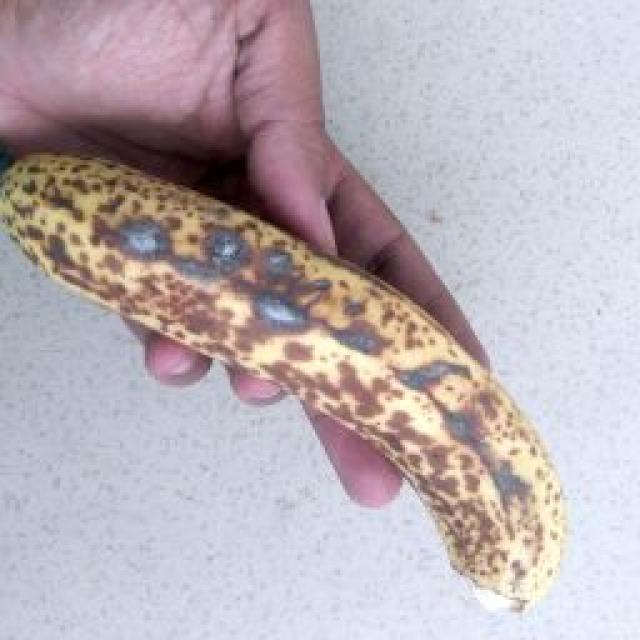banana: (54, 20, 595, 575)
